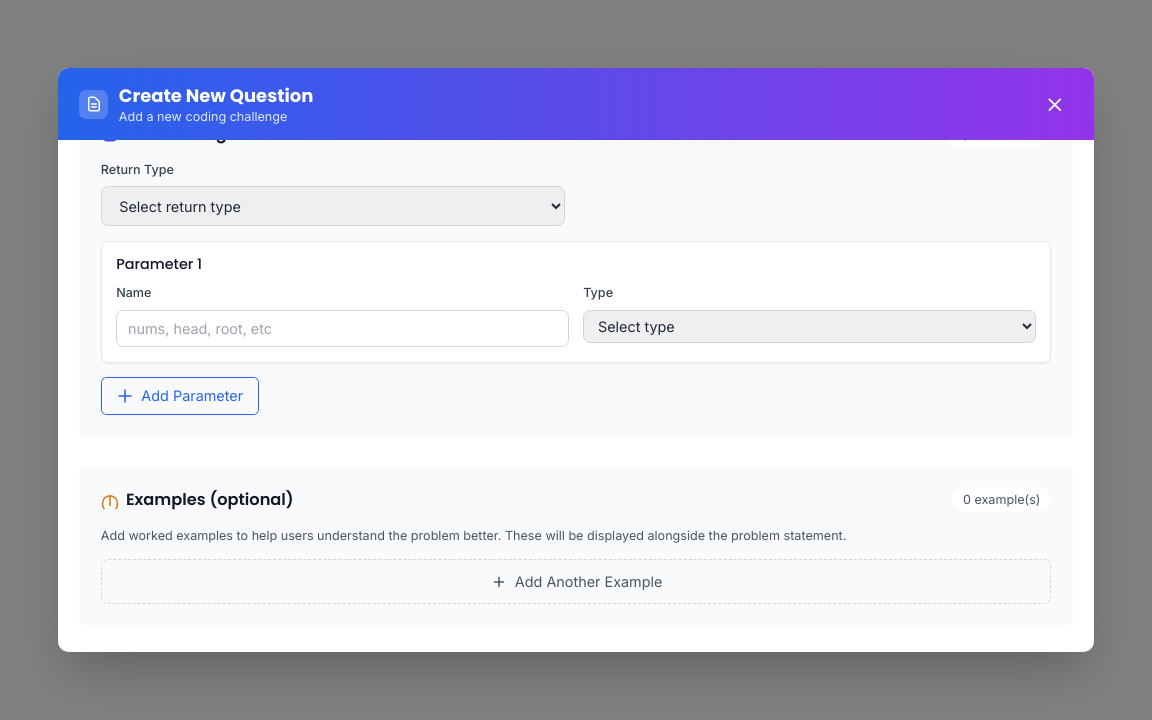
QuestionForm Component › Function Signature Section › allows adding parameters
(page scrolled)
Click the button "Add Parameter" at (180, 396), box [101,377,258,415]
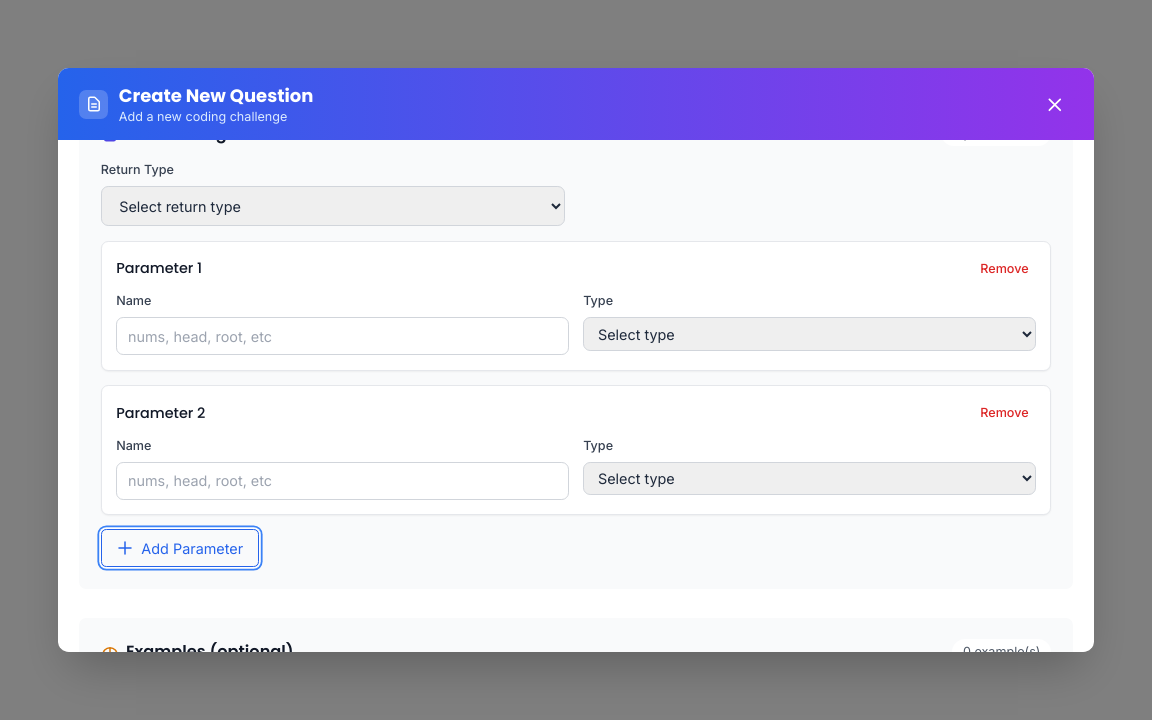
Now the heading "Parameter 2" is shown, box [116,404,206,422]
